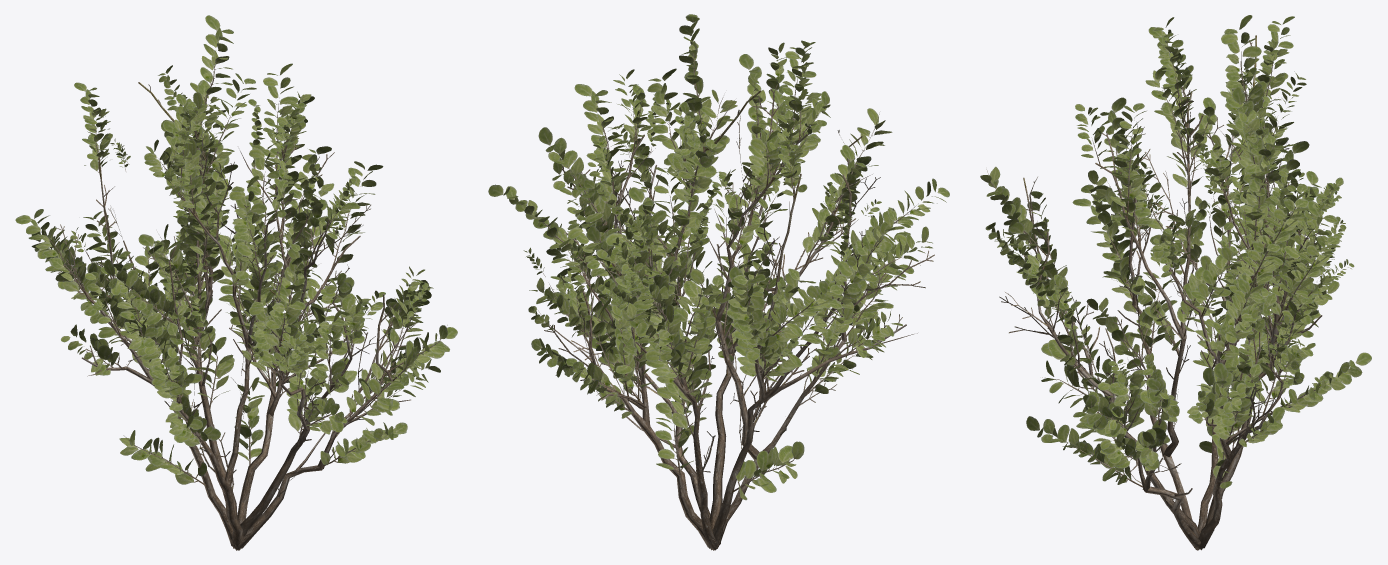
File: struik_groot.gltf
3 views of the same model, side by side, from view 1: azimuth 30°, elevation 25°; view 2: azimuth 150°, elevation 25°; view 3: azimuth 270°, elevation 25° (orthographic). The views are drawn at different scales.
Parts seen in each view (by area): view 1: searsia_lucida_d_LOD0; view 2: searsia_lucida_d_LOD0; view 3: searsia_lucida_d_LOD0.
Boxes of the visible parts, box(x1,y1,x2,y2) form: searsia_lucida_d_LOD0: box(15, 15, 457, 550); searsia_lucida_d_LOD0: box(488, 14, 949, 550); searsia_lucida_d_LOD0: box(980, 15, 1371, 550).
Bounding box in the file's own units: 1.1 × 1.42 × 0.9539.
2 materials, 2 textured.
